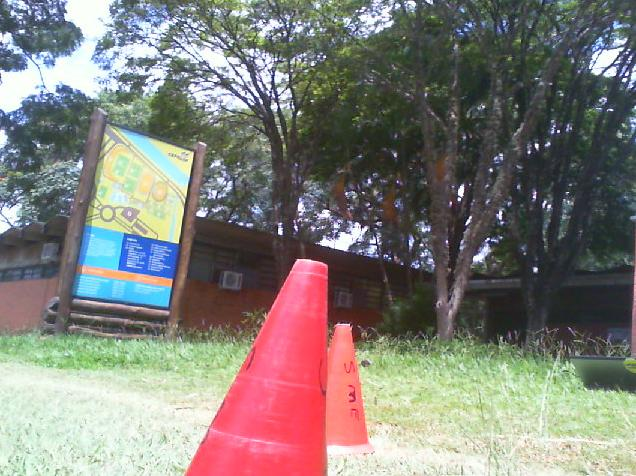0 cone: (183, 259, 327, 476), (327, 324, 375, 455)
